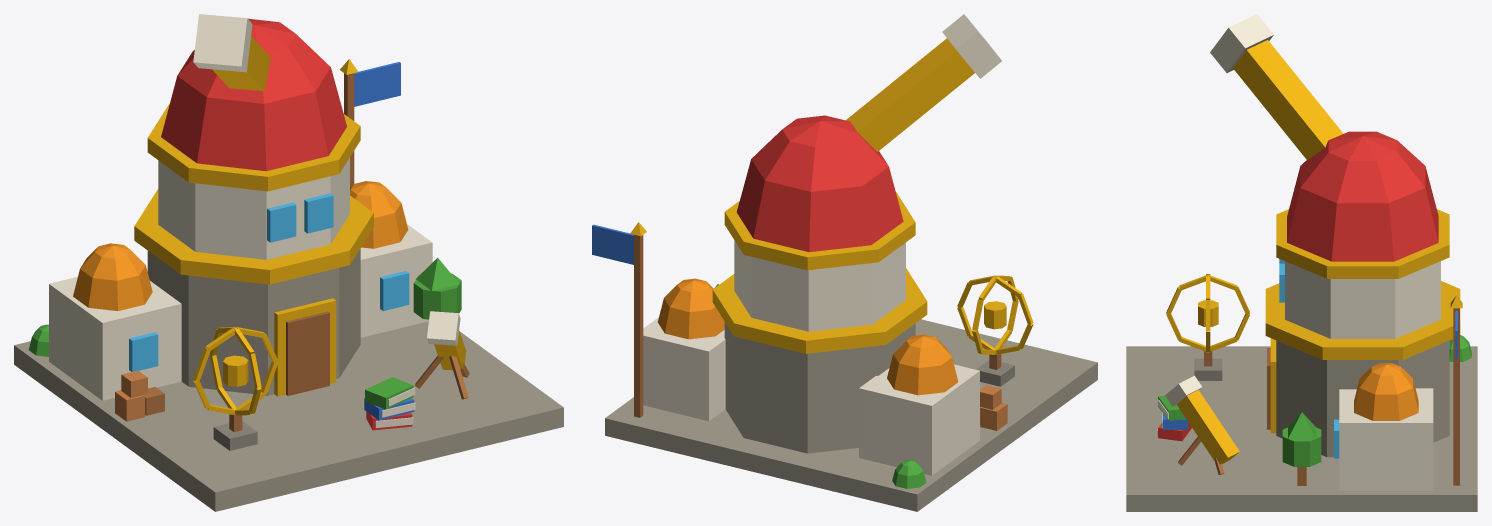
File: observatory_t3_v3.glb
3 views of the same model, side by side, from view 1: azimuth 30°, elevation 25°; view 2: azimuth 150°, elevation 25°; view 3: azimuth 270°, elevation 25° (orthographic). The views are drawn at different scales.
Visible parts, largest first — view 1: observatory_t3_v3; view 2: observatory_t3_v3; view 3: observatory_t3_v3.
Boxes of the visible parts, <box> form: observatory_t3_v3: <box>14,14,563,511</box>; observatory_t3_v3: <box>592,14,1097,511</box>; observatory_t3_v3: <box>1126,14,1477,511</box>.
Size of the model in its own units: 0.805 by 0.8816 by 0.75.
1 material, 1 textured.
